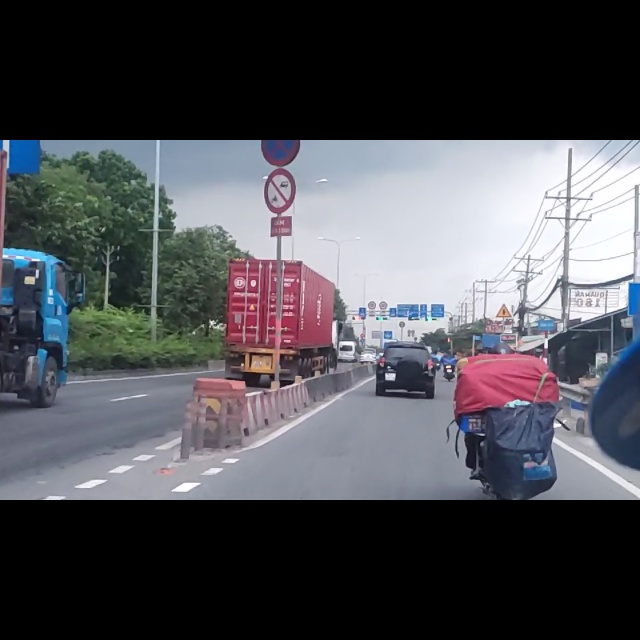bien_hieu_lenh: (262, 50, 296, 130), (260, 2, 301, 45), (495, 290, 513, 318)
